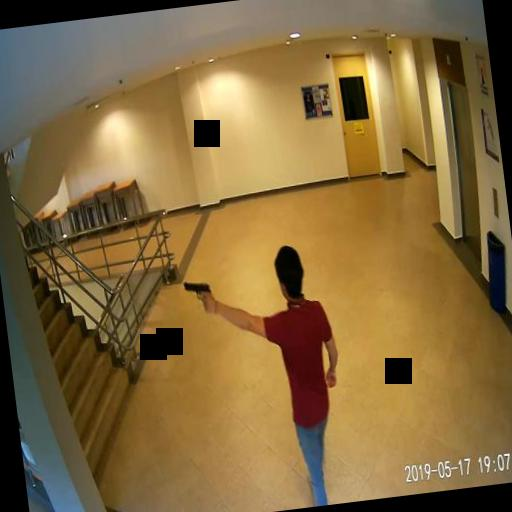Handgun: (180, 277, 214, 316)
